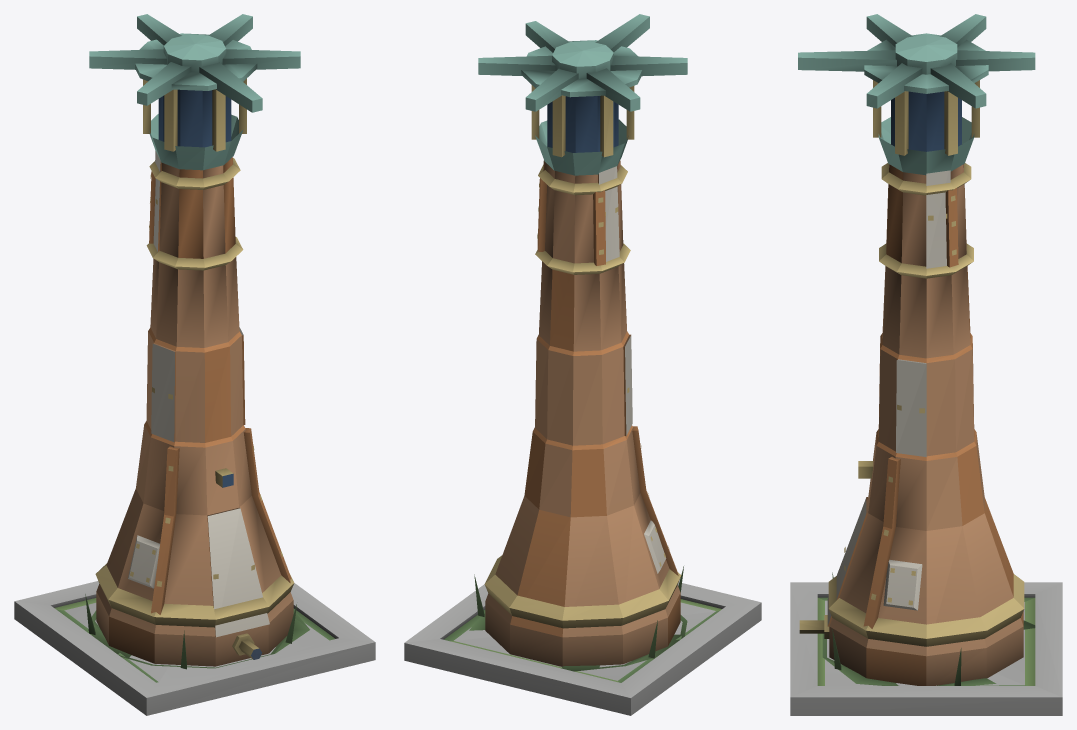
Rendered from chimney.glb.
3 renders of one model, left to right at view 1: azimuth 30°, elevation 25°; view 2: azimuth 150°, elevation 25°; view 3: azimuth 270°, elevation 25°, orthographic. The views are drawn at different scales.
Parts seen in each view (by area): view 1: chimney; view 2: chimney; view 3: chimney.
Part boxes in pixels (left/top/right/bottom): chimney: left=14, top=14, right=375, bottom=715; chimney: left=404, top=14, right=761, bottom=715; chimney: left=790, top=14, right=1062, bottom=715.
Bounding box in the file's own units: 1.6 × 3.98 × 1.6.
